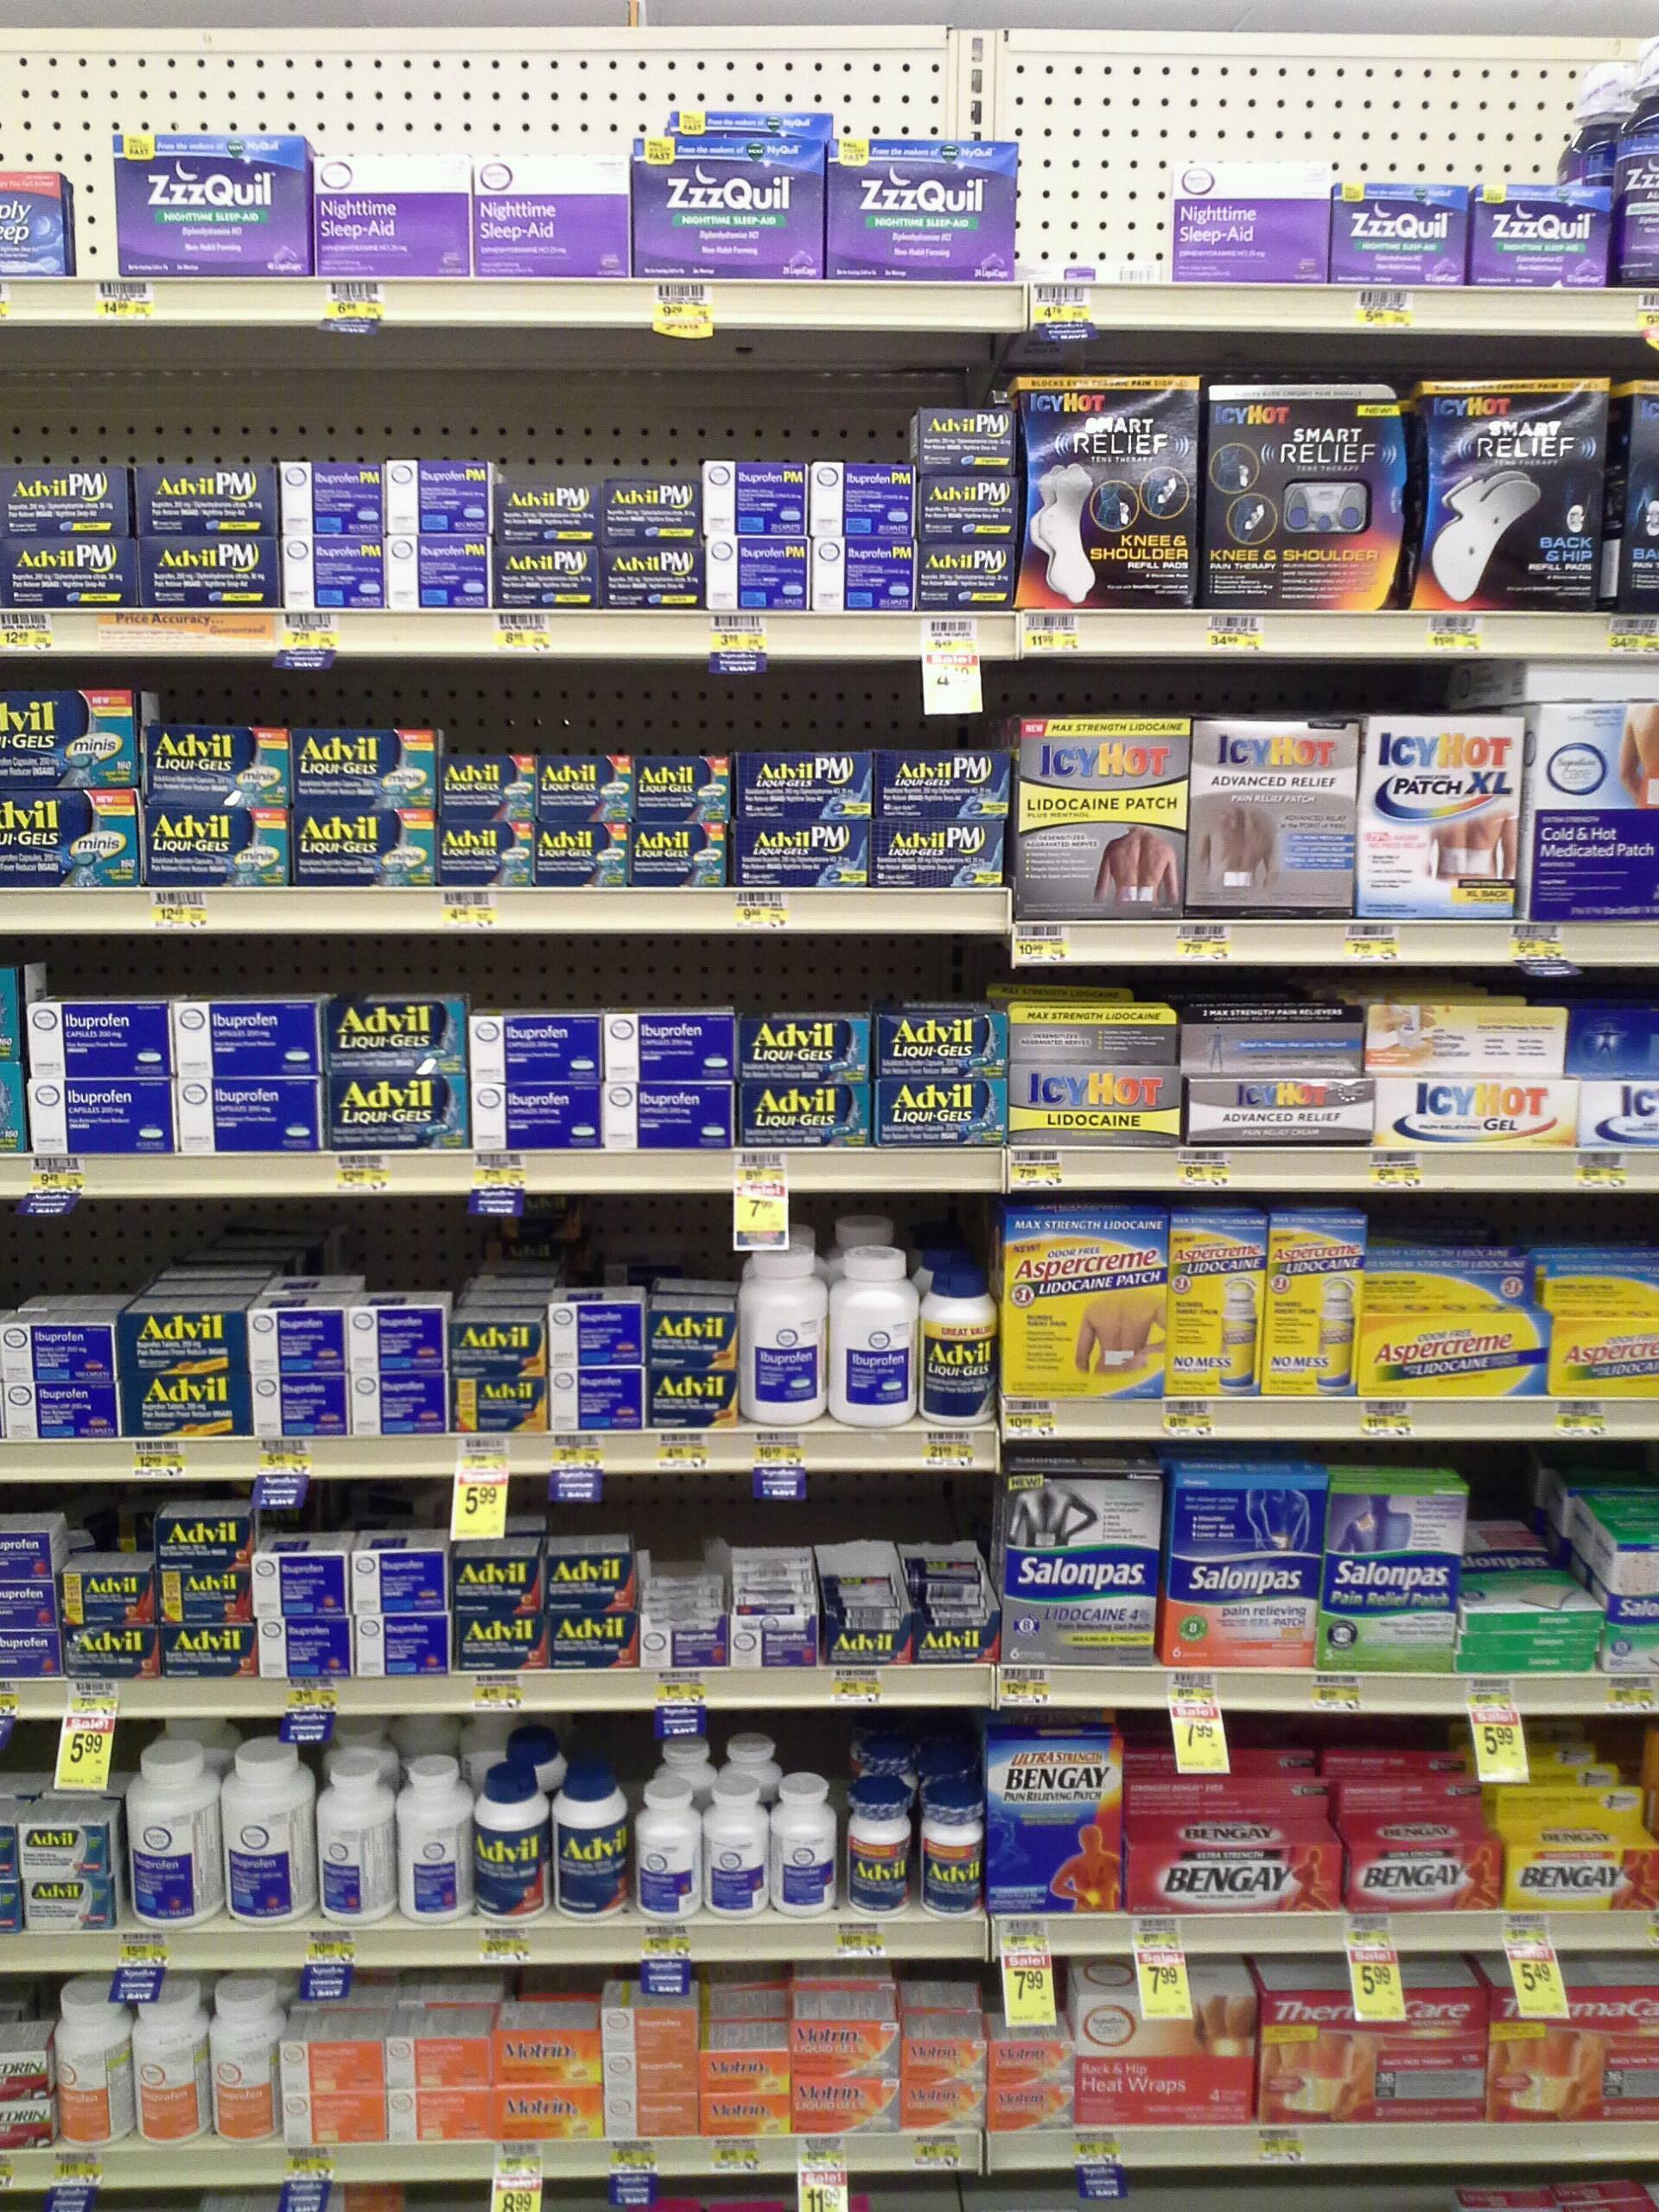Out-of-stock: (1016, 30, 1175, 284)
